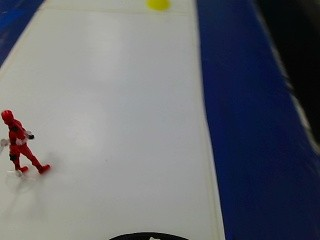cone: (144, 0, 171, 13)
pedestrian: (0, 107, 49, 176)
